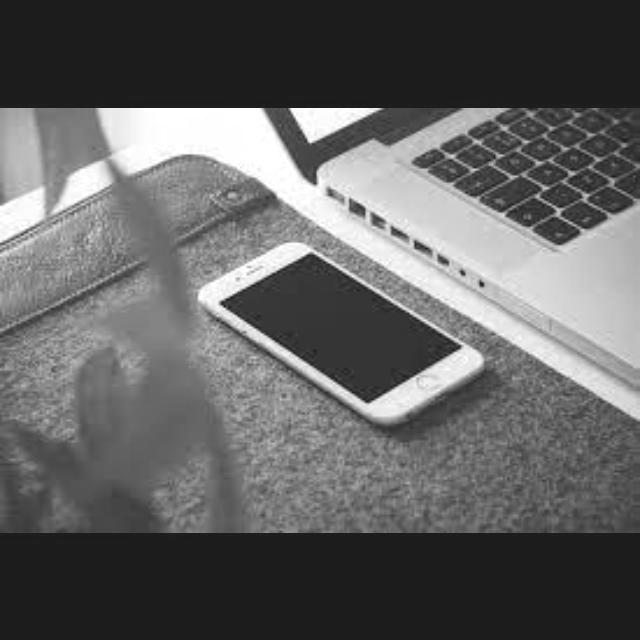fake: (192, 196, 496, 470)
